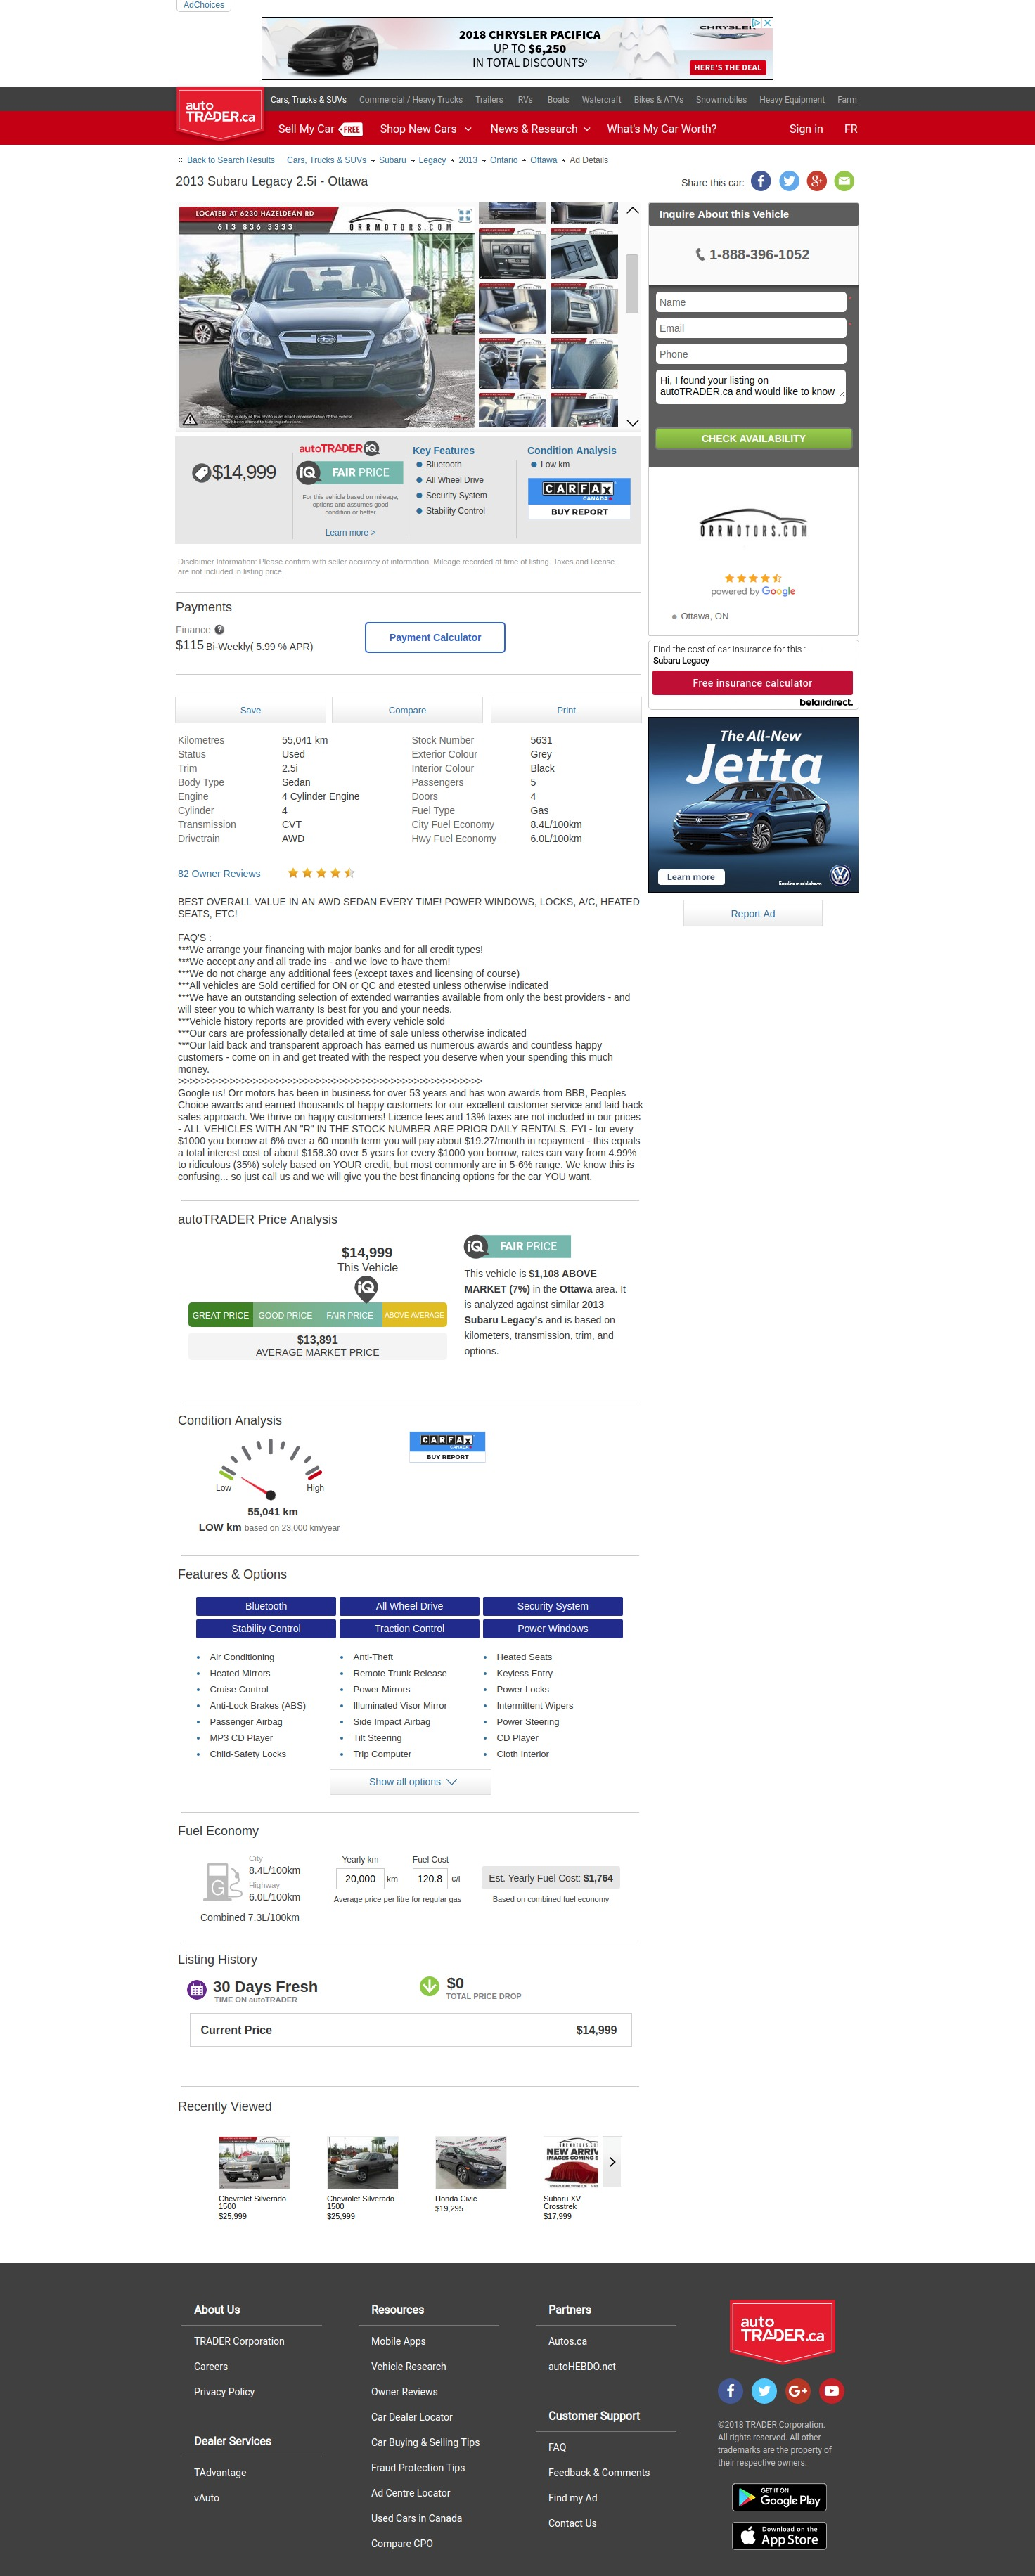car: (626, 417, 642, 430)
